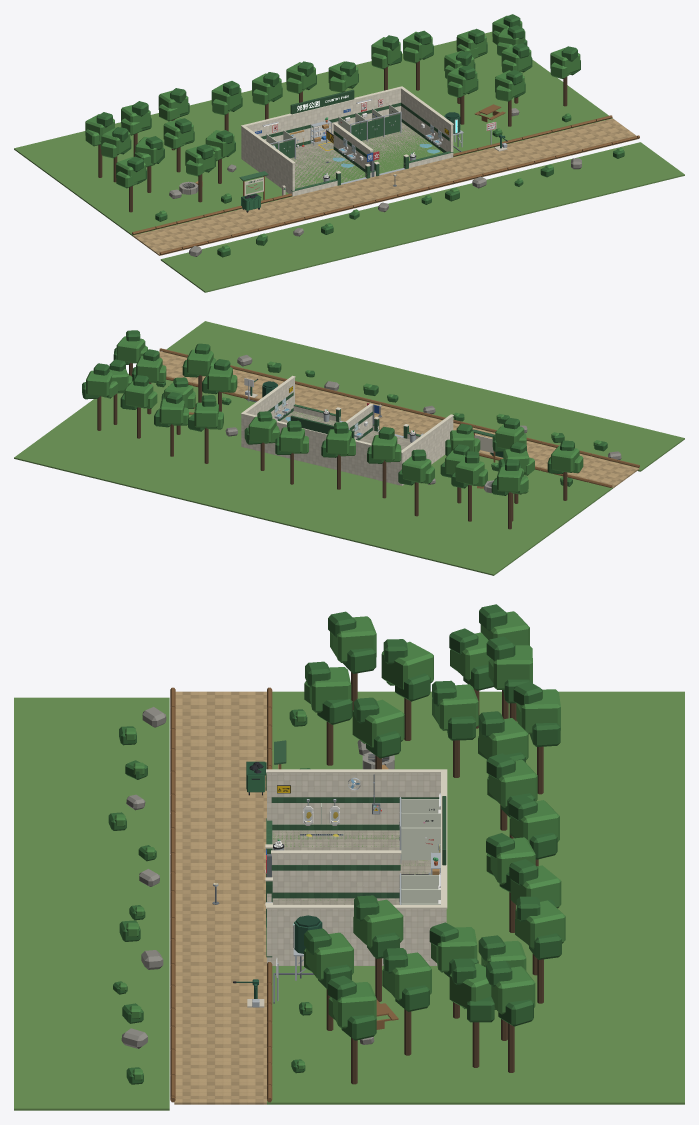
File: level_park.glb
3 views of the same model, one above another, from view 1: azimuth 30°, elevation 25°; view 2: azimuth 150°, elevation 25°; view 3: azimuth 270°, elevation 25° (orthographic). The views are drawn at different scales.
Visible parts, largest first — view 1: neighbours, street, walls, floor, decor, signage, stall_partitions; view 2: neighbours, street, walls, floor, signage; view 3: neighbours, street, walls, stall_partitions, floor, decor.
Part boxes in pixels (bbox=[...]): neighbours: bbox=[14, 14, 684, 292]; street: bbox=[133, 118, 639, 255]; walls: bbox=[241, 86, 453, 196]; floor: bbox=[290, 122, 436, 187]; decor: bbox=[241, 99, 448, 212]; signage: bbox=[290, 89, 379, 177]; stall_partitions: bbox=[266, 104, 401, 158]; neighbours: bbox=[14, 321, 684, 575]; street: bbox=[159, 348, 639, 488]; walls: bbox=[241, 375, 453, 485]; floor: bbox=[280, 411, 410, 450]; signage: bbox=[290, 403, 379, 438]; neighbours: bbox=[14, 604, 684, 1110]; street: bbox=[170, 687, 266, 1104]; walls: bbox=[265, 769, 447, 965]; stall_partitions: bbox=[399, 797, 440, 904]; floor: bbox=[272, 830, 430, 904]; decor: bbox=[212, 761, 440, 904].
Bounding box in the file's own units: 40 × 5.59 × 27.6.
Materials: 82 (4 with a texture image).
